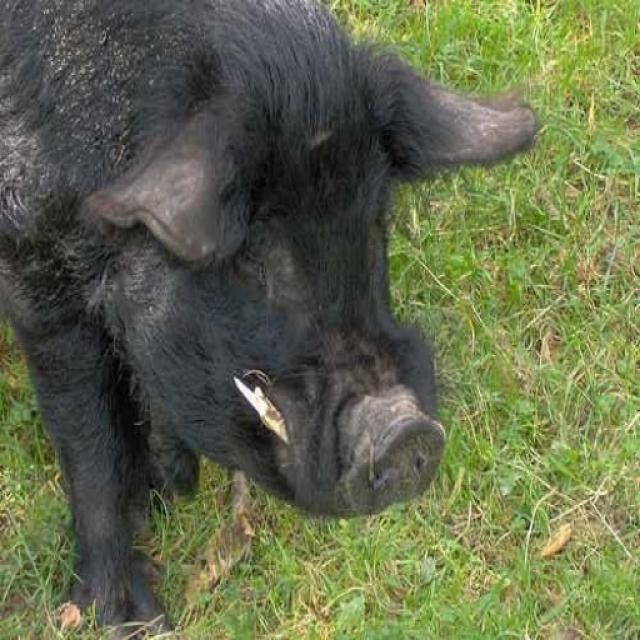pig: (0, 0, 475, 546)
